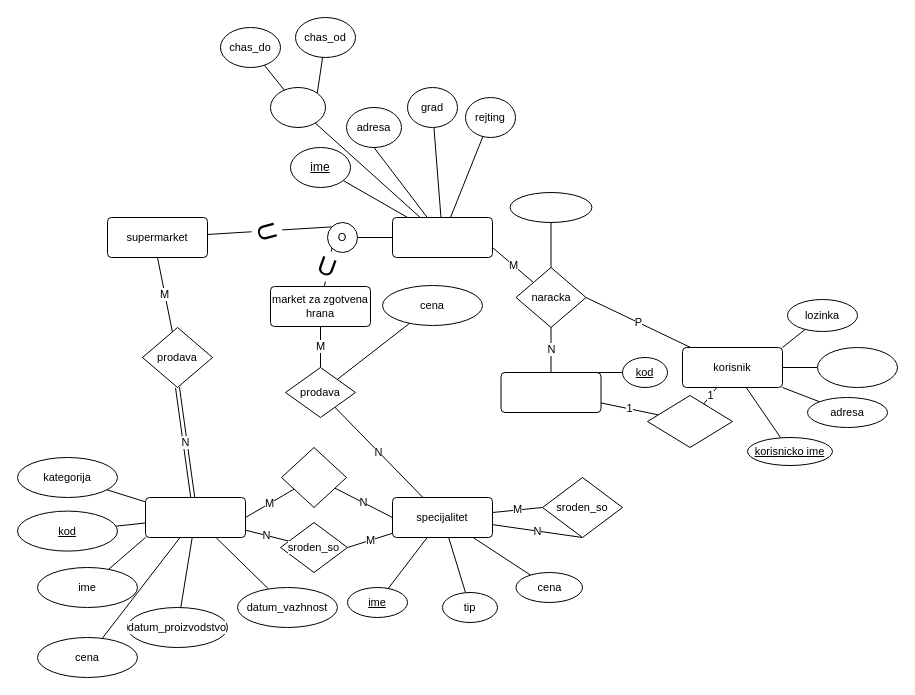
Some shapes in this 915 by 695 pixel diagram are drawn without their labels. The shapes that lost their labels are listed below. From the top down, each one's centre as x and y in pixels, then its label:
At (x=298, y=107): "rab_vreme".
At (x=550, y=207): "datum".
At (x=442, y=237): "market".
At (x=857, y=367): "email".
At (x=550, y=392): "Koshnichka".
At (x=689, y=421): "sopstvenik_koshnicka".
At (x=313, y=477): "sostaven od".
At (x=195, y=517): "Proizvod".
